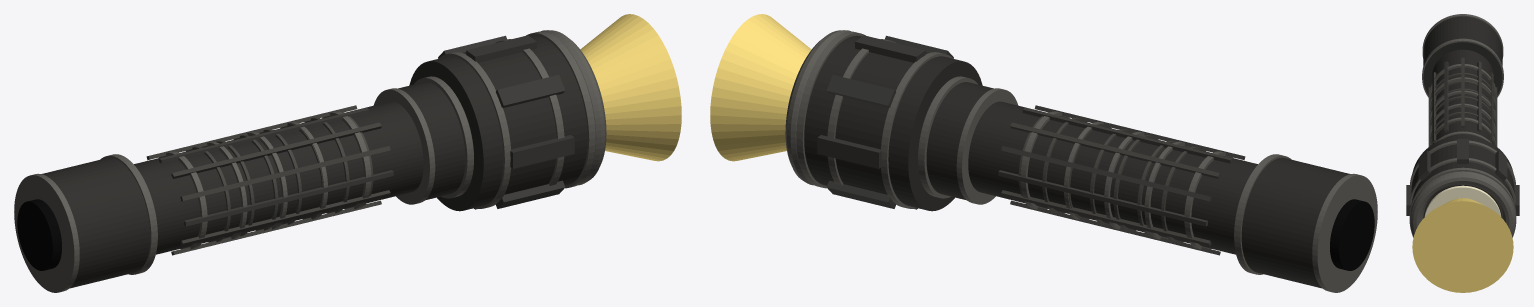
File: flashlight_tactical_mesh.glb
The picture shows the model from 3 angles, left to right: view 1: azimuth 30°, elevation 25°; view 2: azimuth 150°, elevation 25°; view 3: azimuth 270°, elevation 25°; orthographic projection. The views are drawn at different scales.
Parts seen in each view (by area): view 1: part_0, part_2, part_48, part_3, part_1, part_8, part_4, part_15, part_5, part_19, part_17, part_21 (+20 smaller); view 2: part_0, part_2, part_48, part_3, part_1, part_8, part_4, part_15, part_5, part_19, part_17, part_31 (+20 smaller); view 3: part_48, part_3, part_0, part_5, part_2, part_6, part_9, part_19, part_18, part_17, part_8, part_21 (+23 smaller).
Boxes of the visible parts, x1,y1,x2,y2 form: part_0: [134, 101, 423, 254]; part_2: [409, 35, 587, 211]; part_48: [580, 14, 681, 161]; part_3: [41, 157, 150, 288]; part_1: [398, 82, 473, 200]; part_8: [14, 173, 79, 292]; part_4: [17, 199, 61, 270]; part_15: [373, 88, 435, 204]; part_5: [541, 30, 606, 185]; part_19: [526, 31, 595, 188]; part_17: [438, 52, 510, 208]; part_21: [171, 122, 381, 178]; part_0: [968, 101, 1257, 254]; part_2: [804, 35, 982, 211]; part_48: [710, 14, 811, 161]; part_3: [1241, 157, 1350, 288]; part_1: [918, 82, 993, 200]; part_8: [1312, 173, 1377, 292]; part_4: [1330, 199, 1374, 270]; part_15: [956, 88, 1018, 204]; part_5: [785, 30, 850, 185]; part_19: [796, 31, 865, 188]; part_17: [881, 52, 953, 208]; part_31: [1010, 122, 1220, 178]; part_48: [1412, 198, 1513, 292]; part_3: [1423, 16, 1502, 94]; part_0: [1431, 49, 1494, 143]; part_5: [1409, 171, 1516, 237]; part_2: [1411, 135, 1514, 217]; part_6: [1424, 185, 1501, 216]; part_9: [1422, 38, 1503, 97]; part_19: [1409, 167, 1516, 215]; part_18: [1410, 158, 1515, 203]; part_17: [1410, 140, 1515, 189]; part_8: [1422, 14, 1503, 58]; part_21: [1444, 61, 1448, 132].
Bounding box in the file's own units: 5.13 × 1.23 × 1.23.
